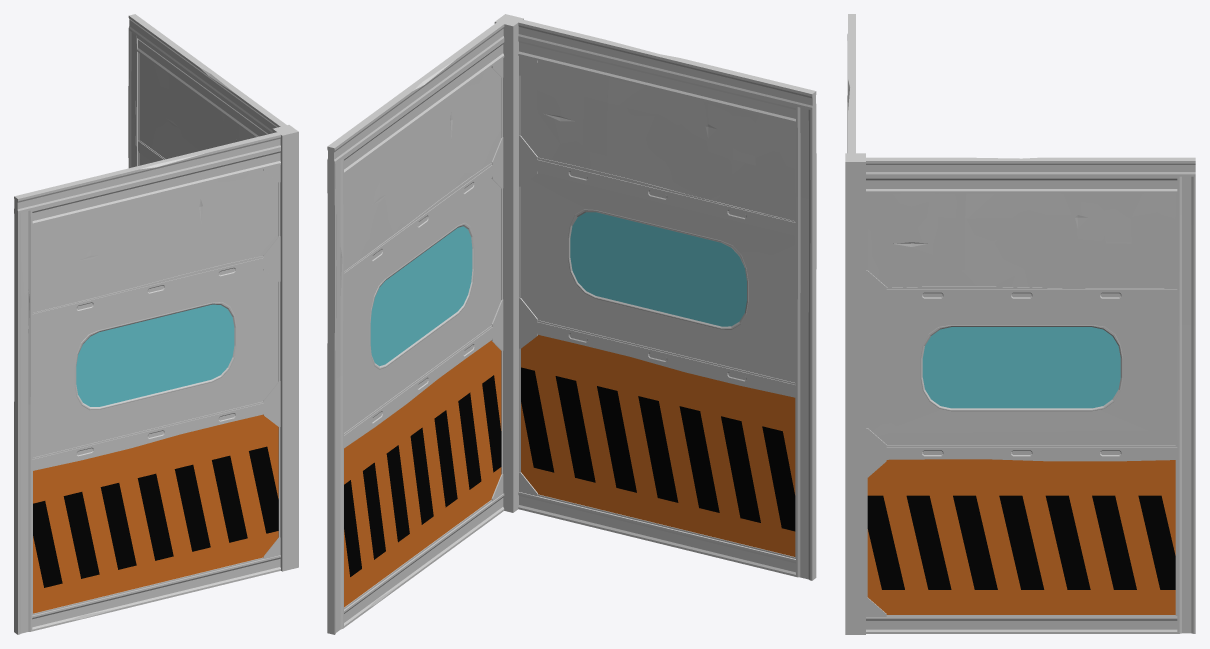
File: SM_Wall_Angle_01.glb
3 renders of one model, left to right at view 1: azimuth 30°, elevation 25°; view 2: azimuth 150°, elevation 25°; view 3: azimuth 270°, elevation 25°, orthographic. The views are drawn at different scales.
Visible parts, largest first — view 1: SM_Wall_Angle_01; view 2: SM_Wall_Angle_01; view 3: SM_Wall_Angle_01.
Part boxes in pixels (x1,y1,x2,y2): SM_Wall_Angle_01: (14,14,298,634); SM_Wall_Angle_01: (327,14,816,634); SM_Wall_Angle_01: (845,14,1195,634).
Size of the model in its own units: 2.01 by 3 by 2.01.
